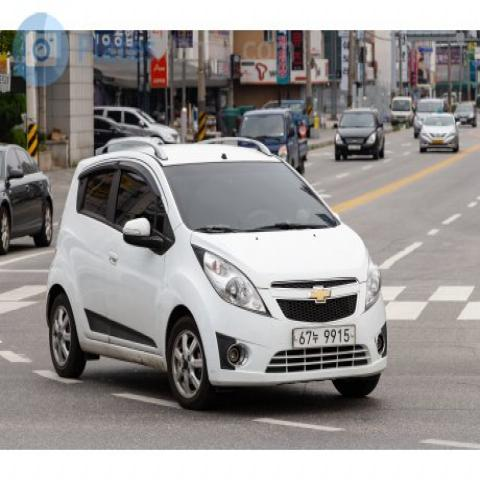LP: (290, 320, 356, 354)
